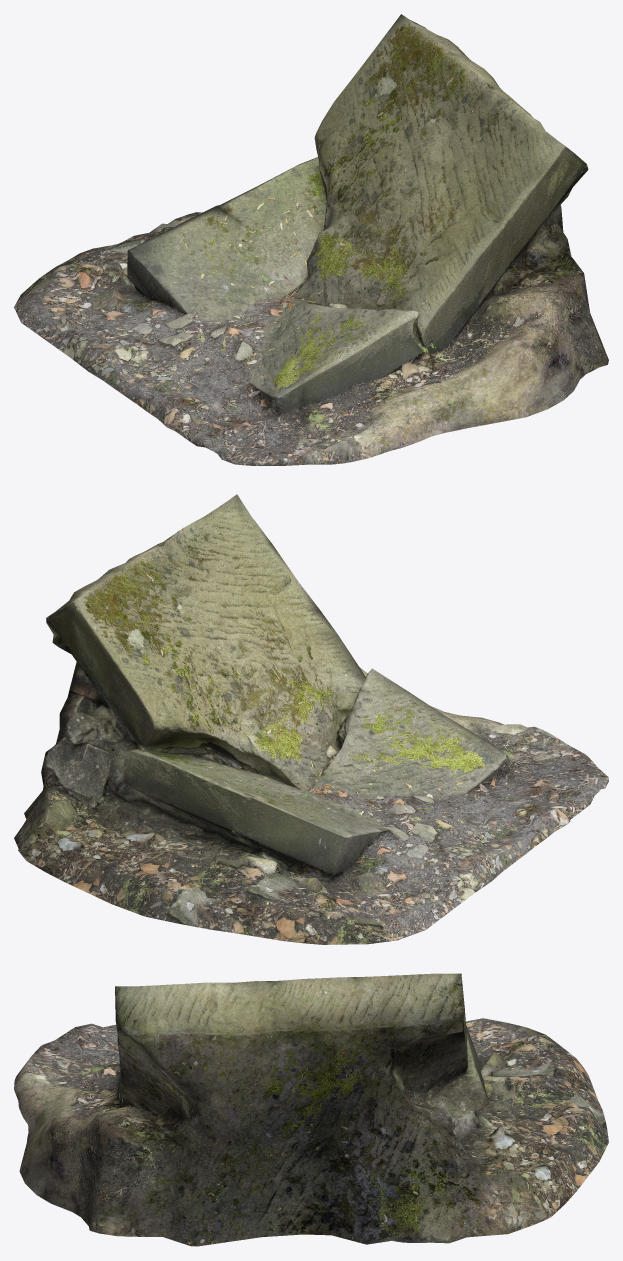
Rendered from sm_GraveDebris_03_01.fbx.
3 renders of one model, top to bottom at view 1: azimuth 30°, elevation 25°; view 2: azimuth 150°, elevation 25°; view 3: azimuth 270°, elevation 25°, orthographic. The views are drawn at different scales.
Parts seen in each view (by area): view 1: sm_GraveDebris_03_01_LOD0; view 2: sm_GraveDebris_03_01_LOD0; view 3: sm_GraveDebris_03_01_LOD0.
Boxes of the visible parts, x1,y1,x2,y2 form: sm_GraveDebris_03_01_LOD0: (14, 14, 608, 465); sm_GraveDebris_03_01_LOD0: (14, 494, 608, 944); sm_GraveDebris_03_01_LOD0: (14, 973, 608, 1246).
Size of the model in its own units: 115 by 132 by 58.96.
